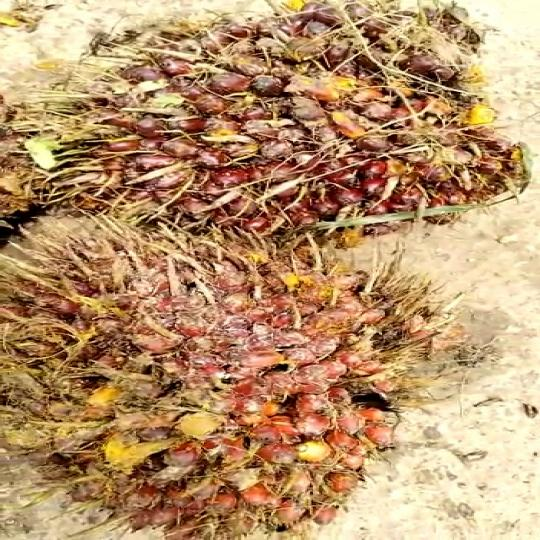masak: (0, 219, 442, 540), (0, 0, 540, 235)
